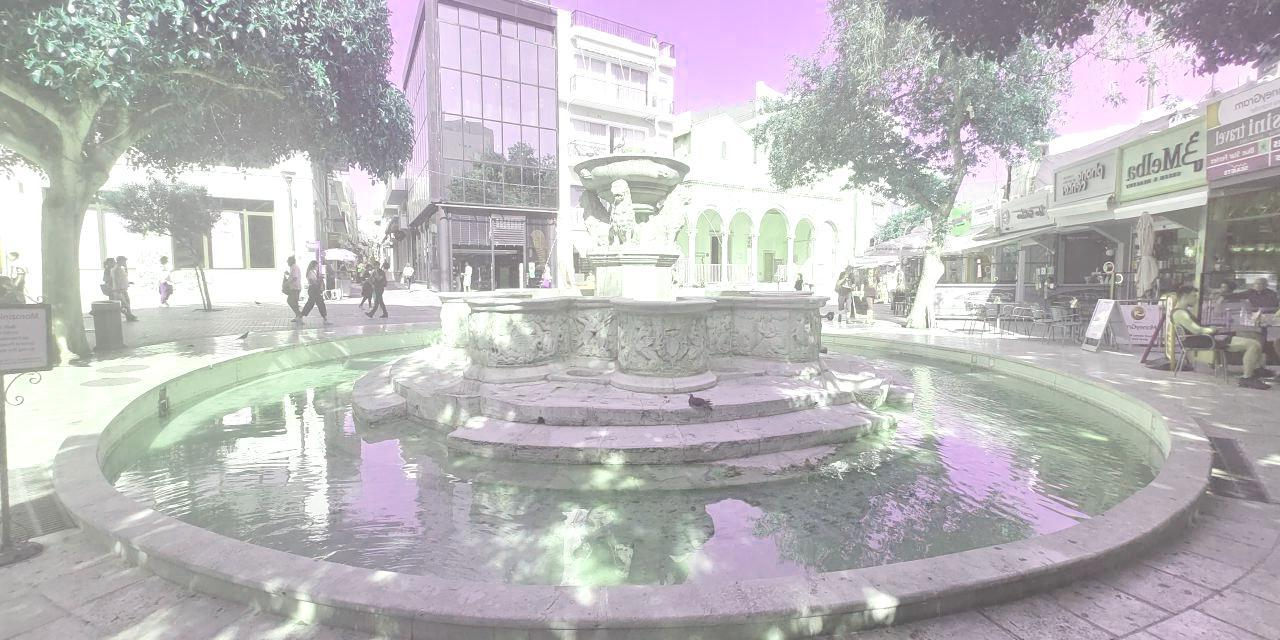Liontaria: (435, 158, 824, 378)
